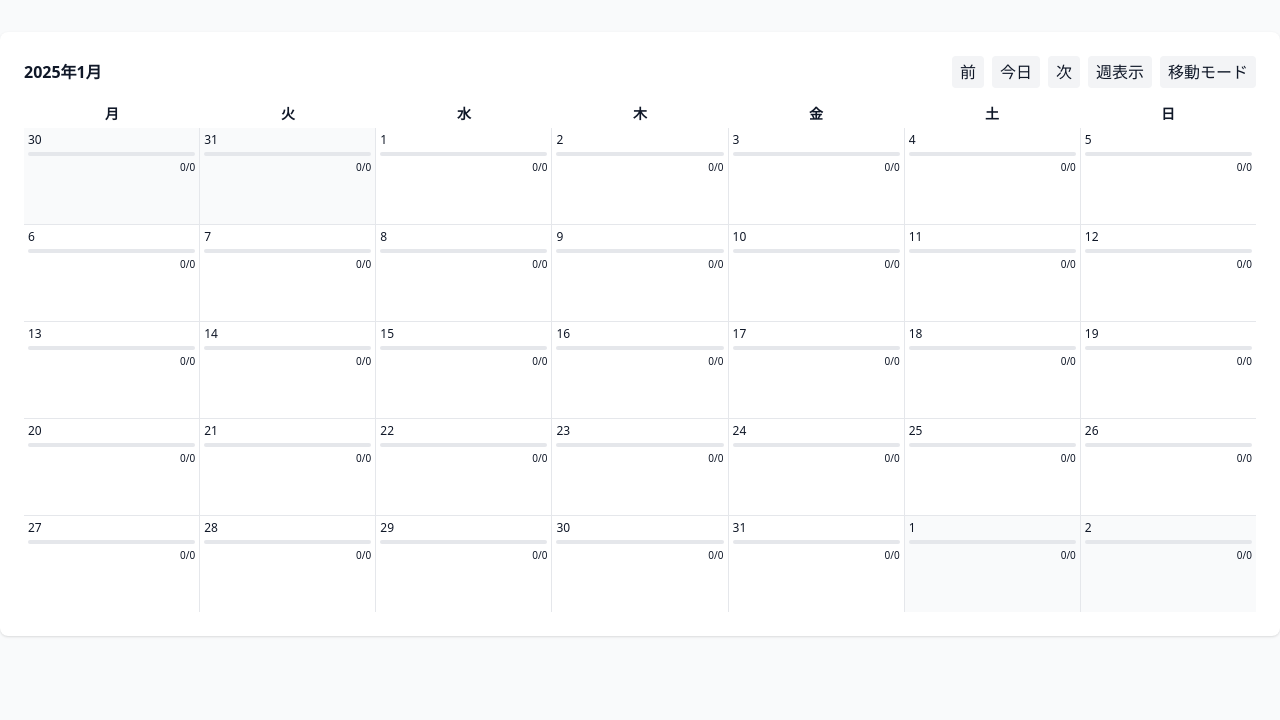
CalendarView › switches to weekly view showing 7 days
Click the button "週表示" at x=1120, y=72, box [1088,56,1152,88]
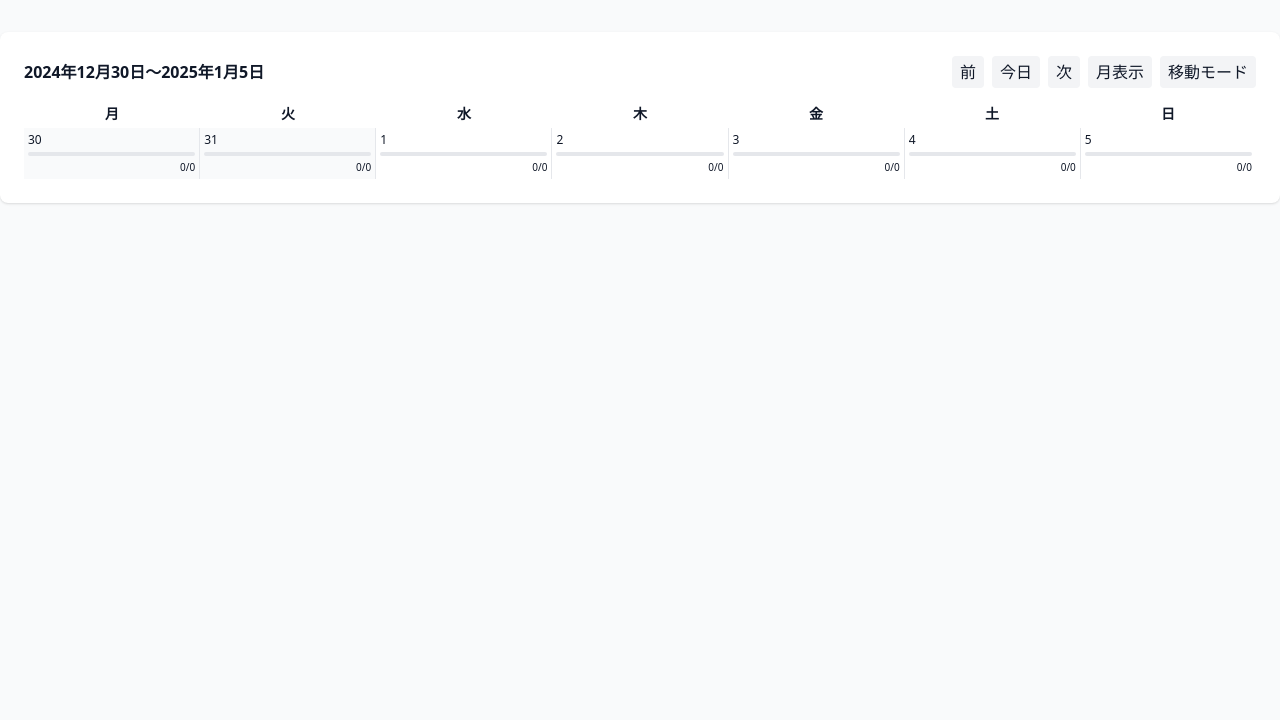
Result: the number of cells is 7
